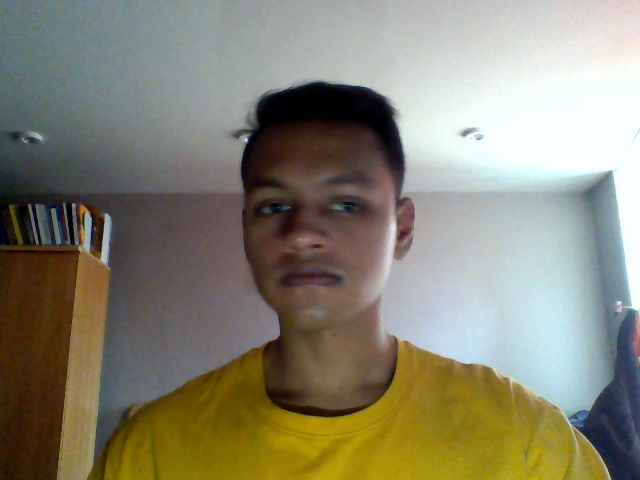no_mask: (237, 221, 397, 323)
